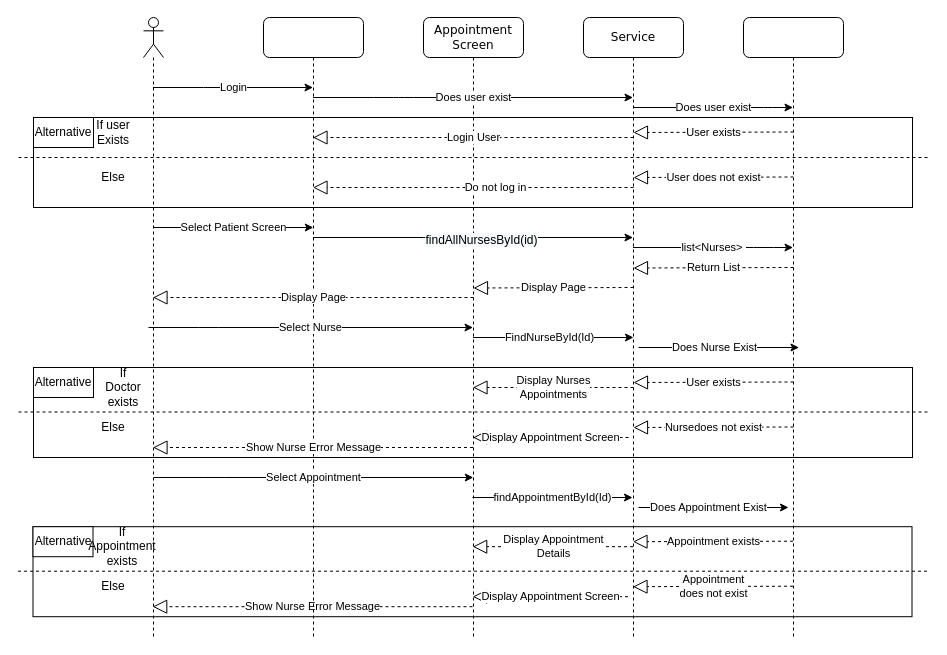
Some shapes in this 947 by 655 pixel diagram are drawn without their labels. Each missing label, with the box of its shape:
Database: (742, 16, 844, 638)
Login Screen: (262, 16, 364, 638)
Nurse: (142, 16, 164, 638)
